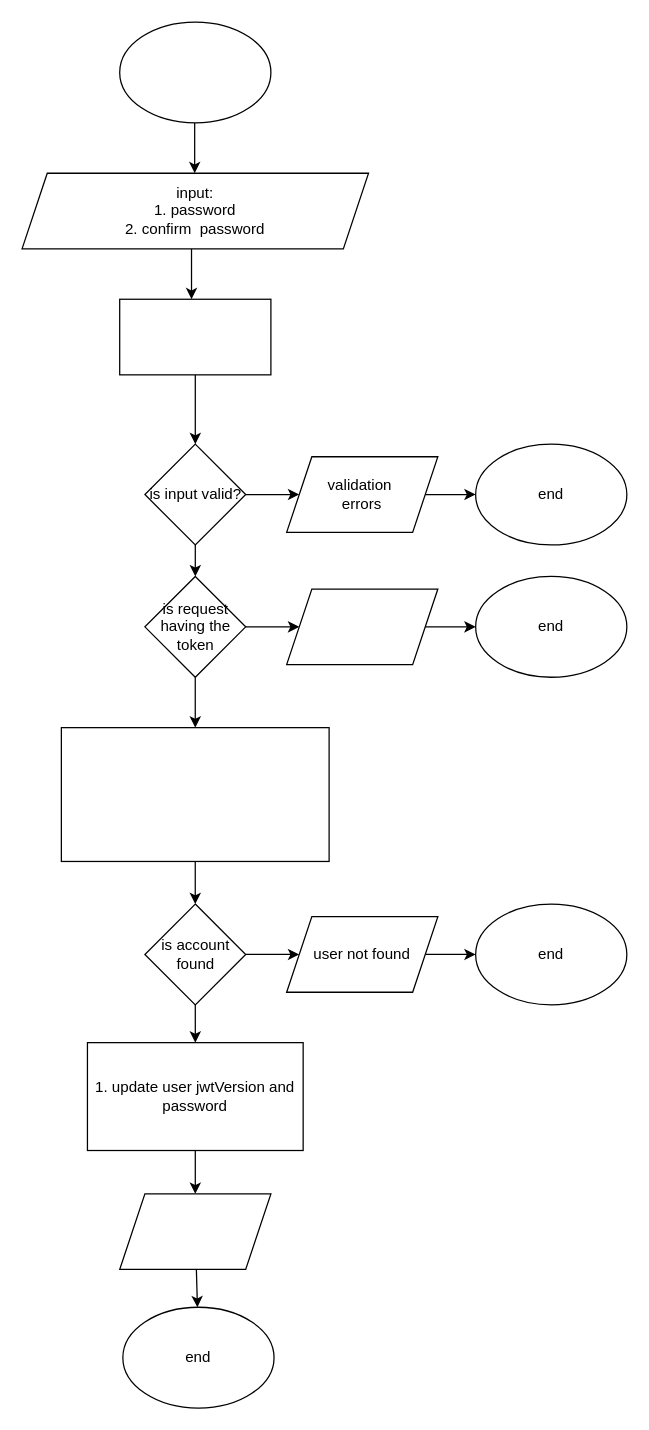
Image size: 649x1430. Some labels were removed from this diagram. Each missing label, with the centre of its shape:
1.verify token get email as payload 2. find account associated with the email: [194,793]
password changed successfully: [194,1231]
start: [194,72]
token missing: [361,626]
validate input: [194,336]
